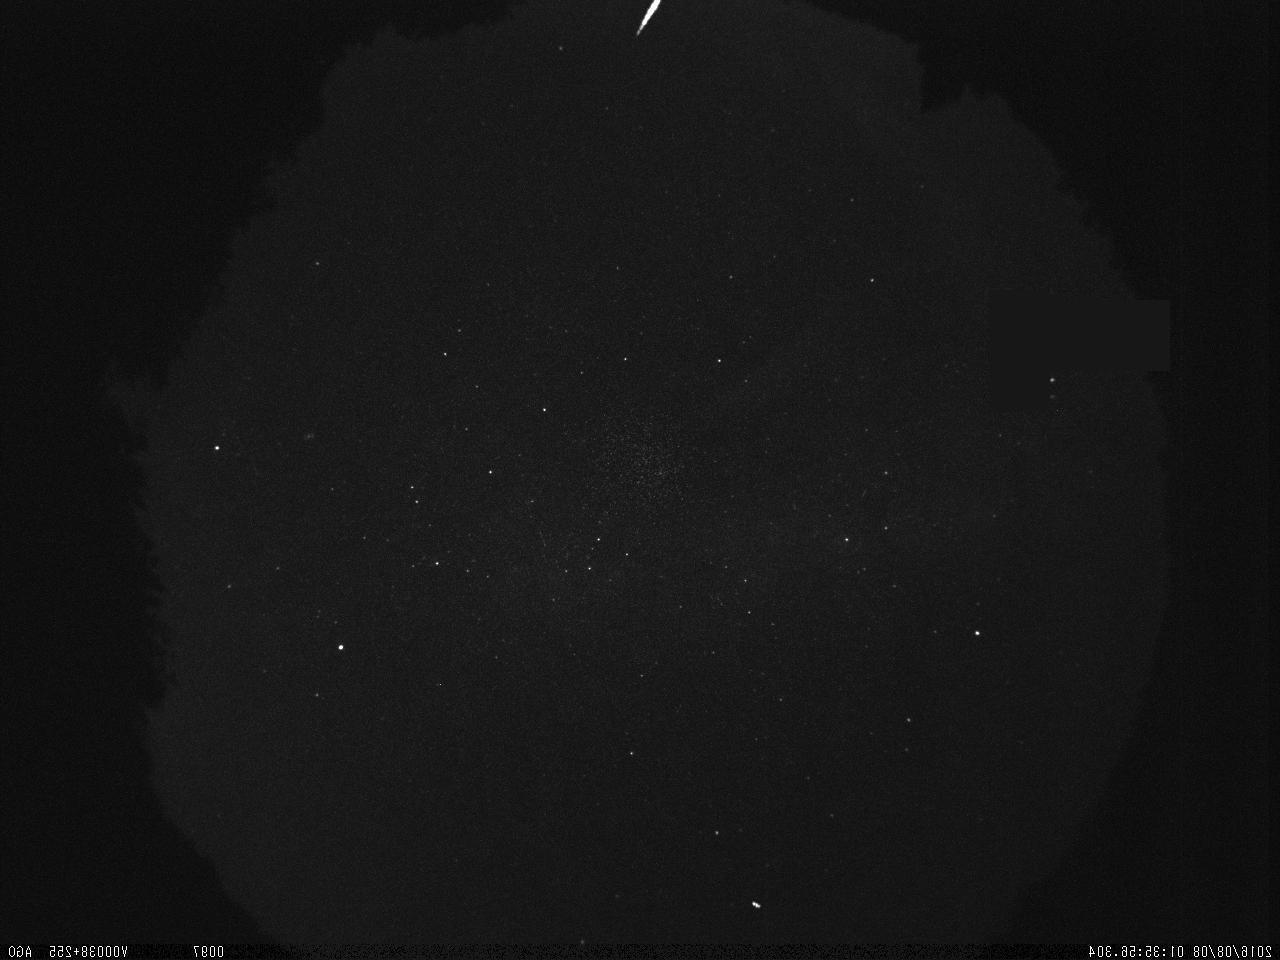meteor: (629, 2, 672, 39)
